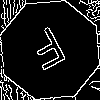F: (25, 25, 74, 80)
